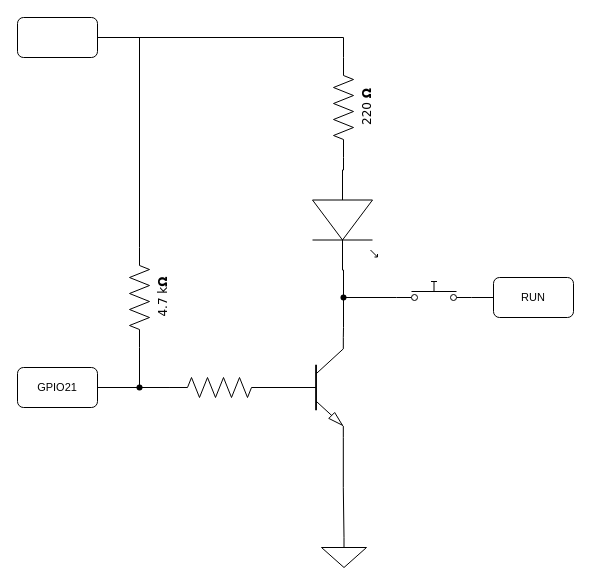
Some shapes in this 591 by 585 pixel diagram are drawn without their labels. The centre of each missing label's shape, as x and y in pixels:
1 k Ω: [219,387]
5V: [57,37]
